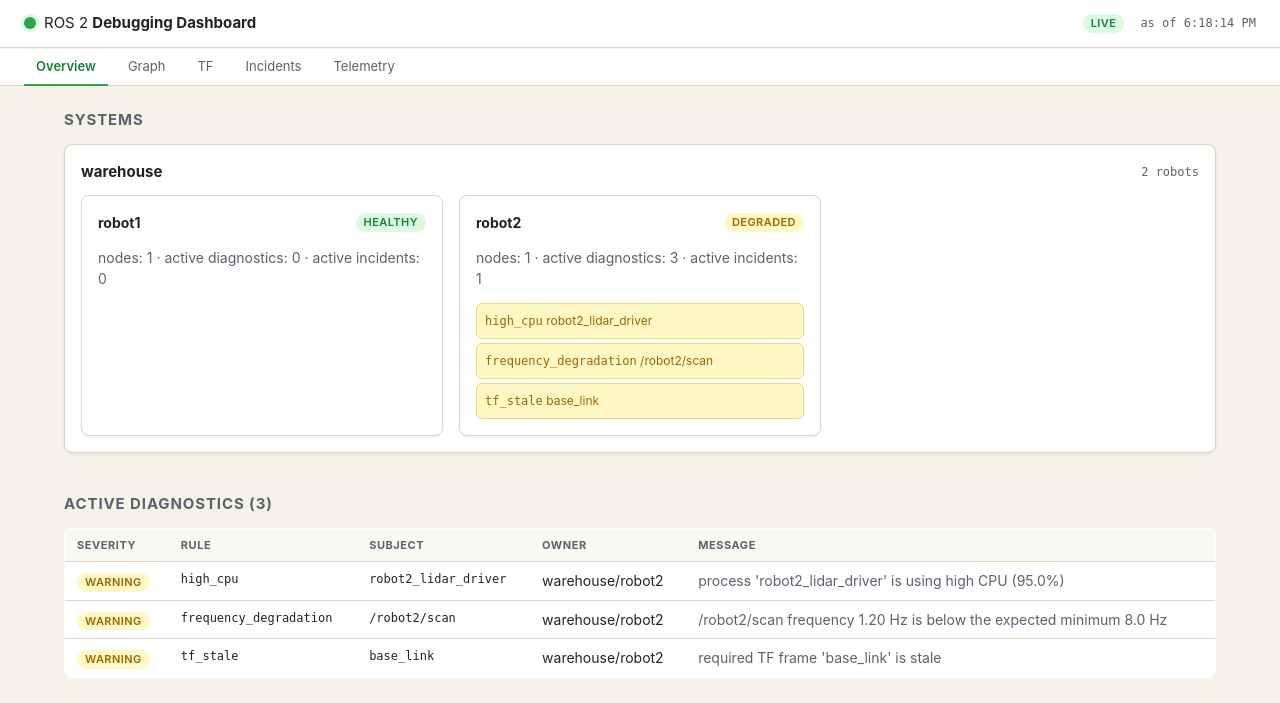
Test: App › navigates to the graph view and highlights a problem topic
Expected: the text "LIVE" is shown, x1=1083 y1=14 x2=1124 y2=32
Click the link "Graph".
click(147, 65)  # box x1=128 y1=57 x2=165 y2=73
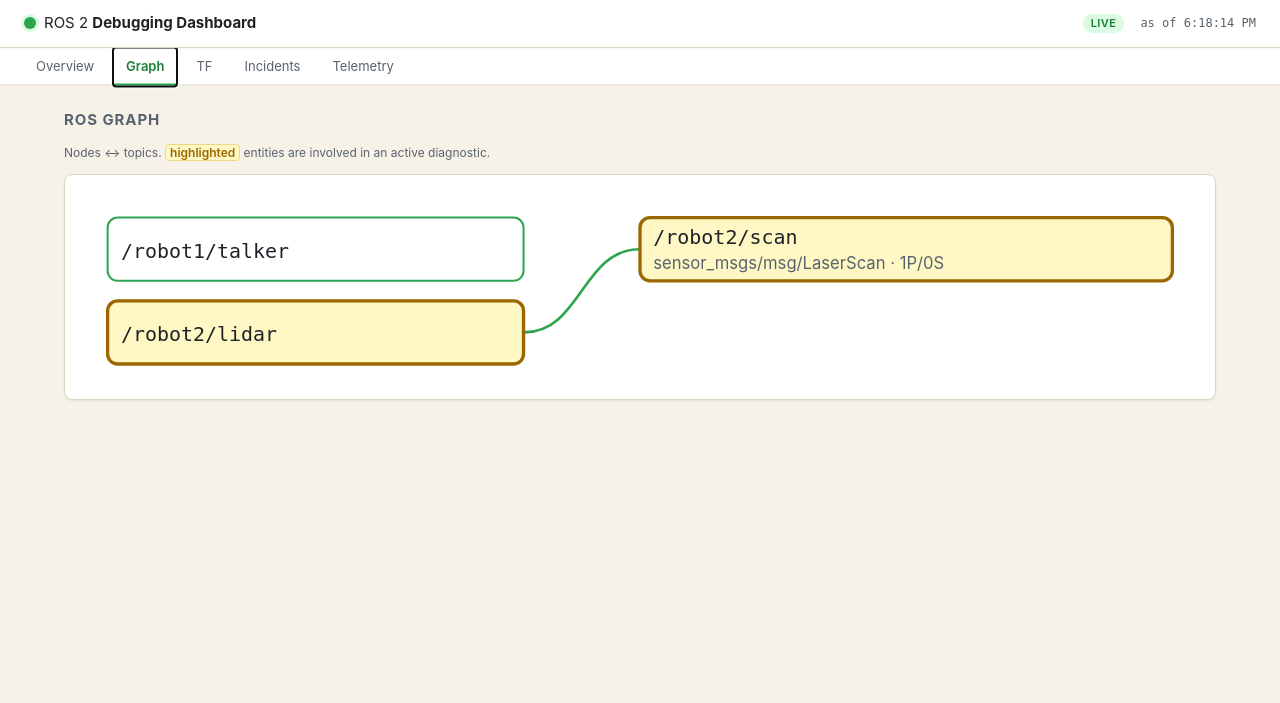
Expected: the text "/robot2/lidar" is shown, x1=121 y1=321 x2=277 y2=345
Now the heading "ROS graph" is shown, box x1=64 y1=110 x2=160 y2=129
